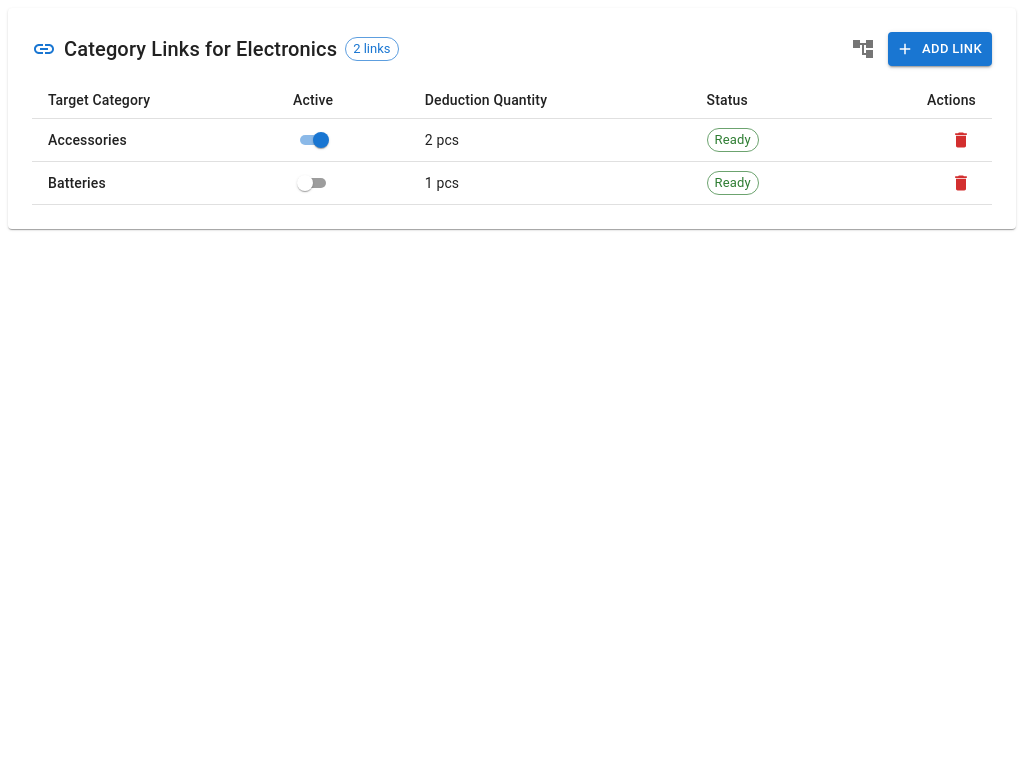
Test: CategoryLinkManager › Dependency Chains › shows empty state when no dependency chains exist
Expected: the text "Accessories" is shown, x1=48 y1=130 x2=127 y2=150
Note: Find and click the dependency chains button using icon test id
Step 1. Click the button with test id "AccountTreeIcon" → (863, 49), box x1=846 y1=32 x2=880 y2=66
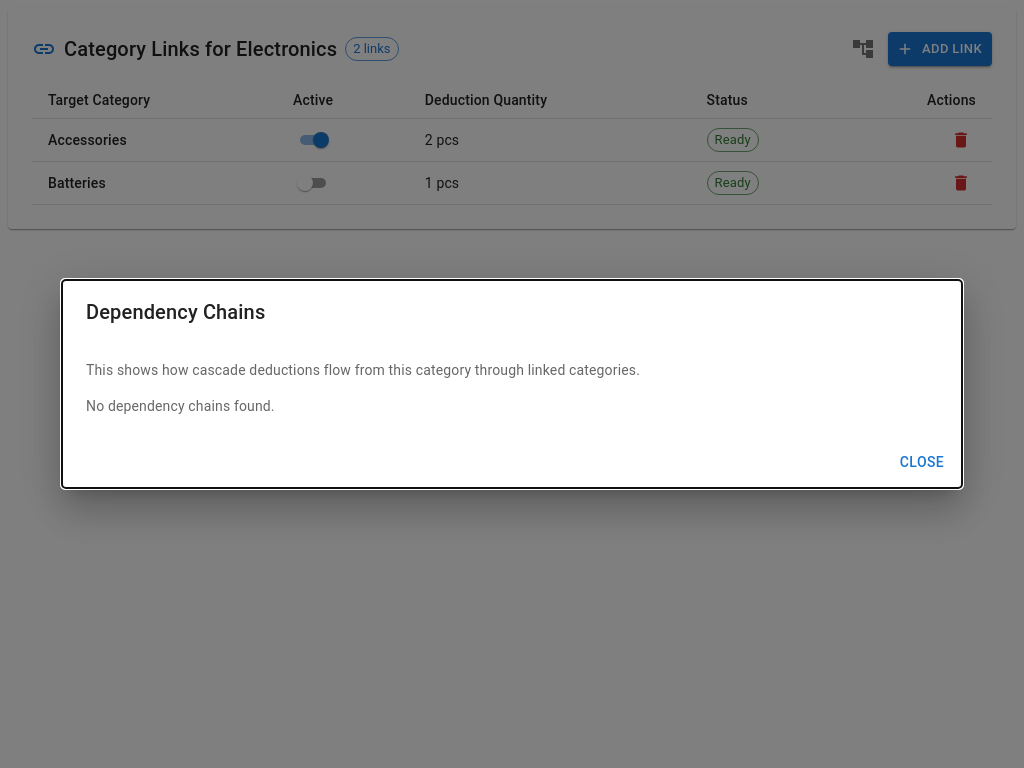
Result: the text "No dependency chains found." is shown at x1=86 y1=398 x2=275 y2=414
